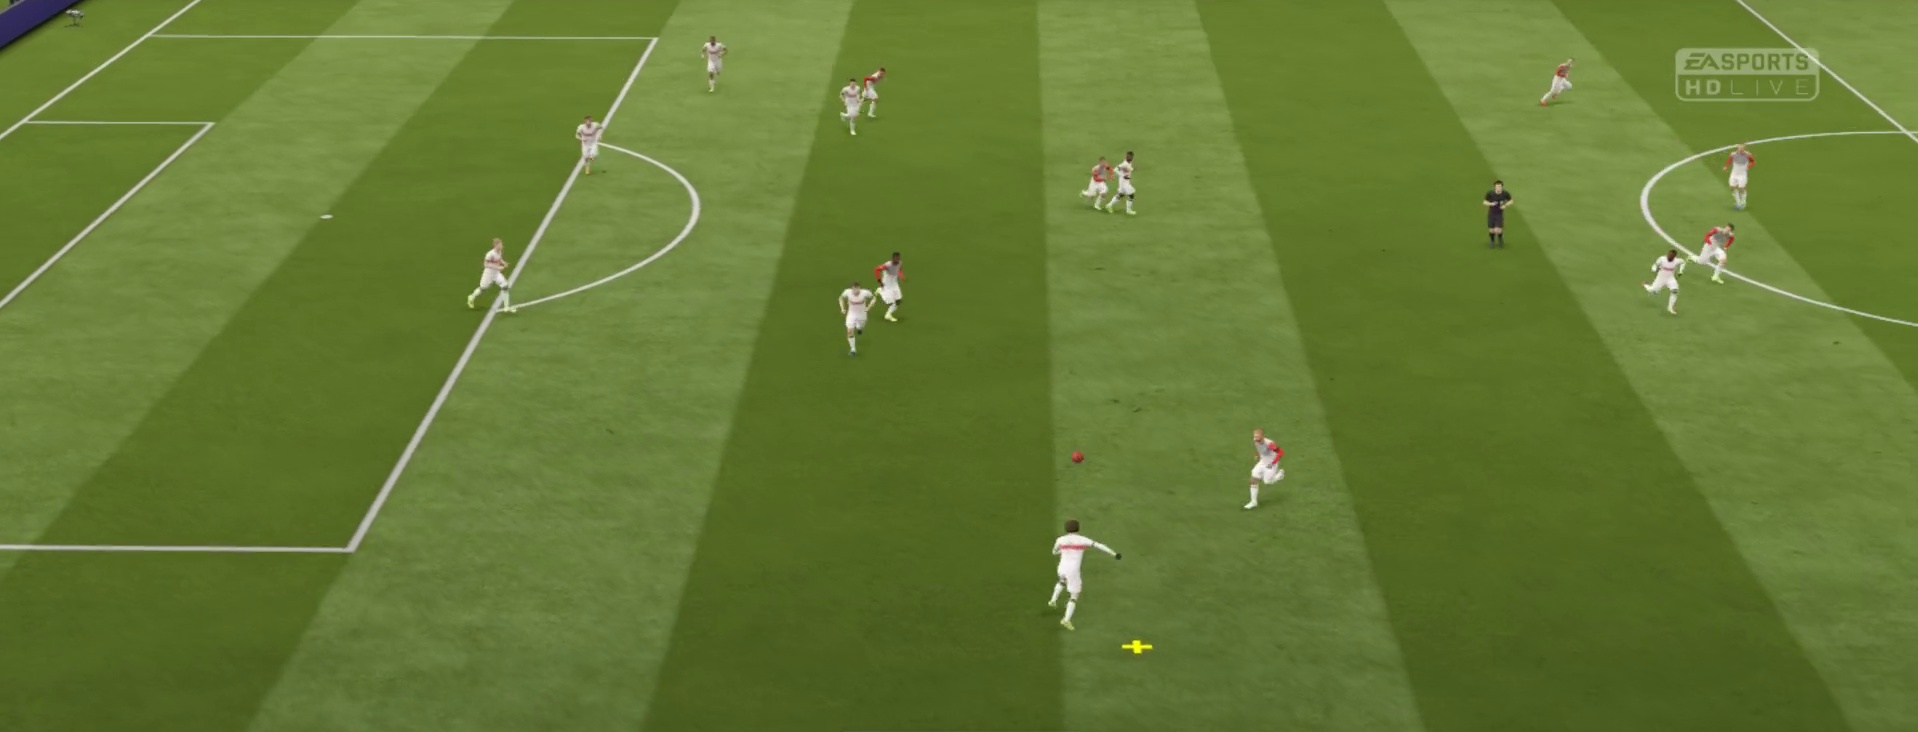ball: (1066, 445, 1088, 470)
person: (1045, 517, 1124, 631), (468, 232, 516, 315), (1247, 426, 1287, 512), (1640, 246, 1688, 315), (837, 281, 878, 357), (1692, 219, 1733, 286), (873, 251, 909, 324), (1723, 139, 1759, 207), (573, 112, 606, 179), (1080, 151, 1116, 212), (697, 31, 730, 95), (1109, 146, 1140, 215), (1481, 179, 1512, 248), (856, 58, 887, 122), (1542, 55, 1578, 105), (835, 76, 864, 132)
